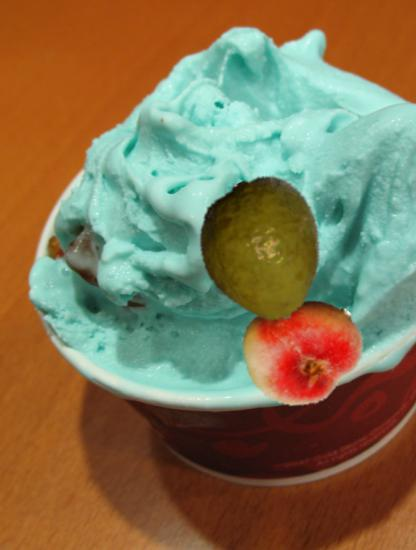Guava: (193, 179, 336, 322)
Peach: (239, 288, 359, 408)
